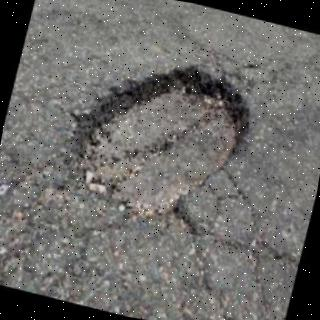pothole: (77, 67, 250, 220)
